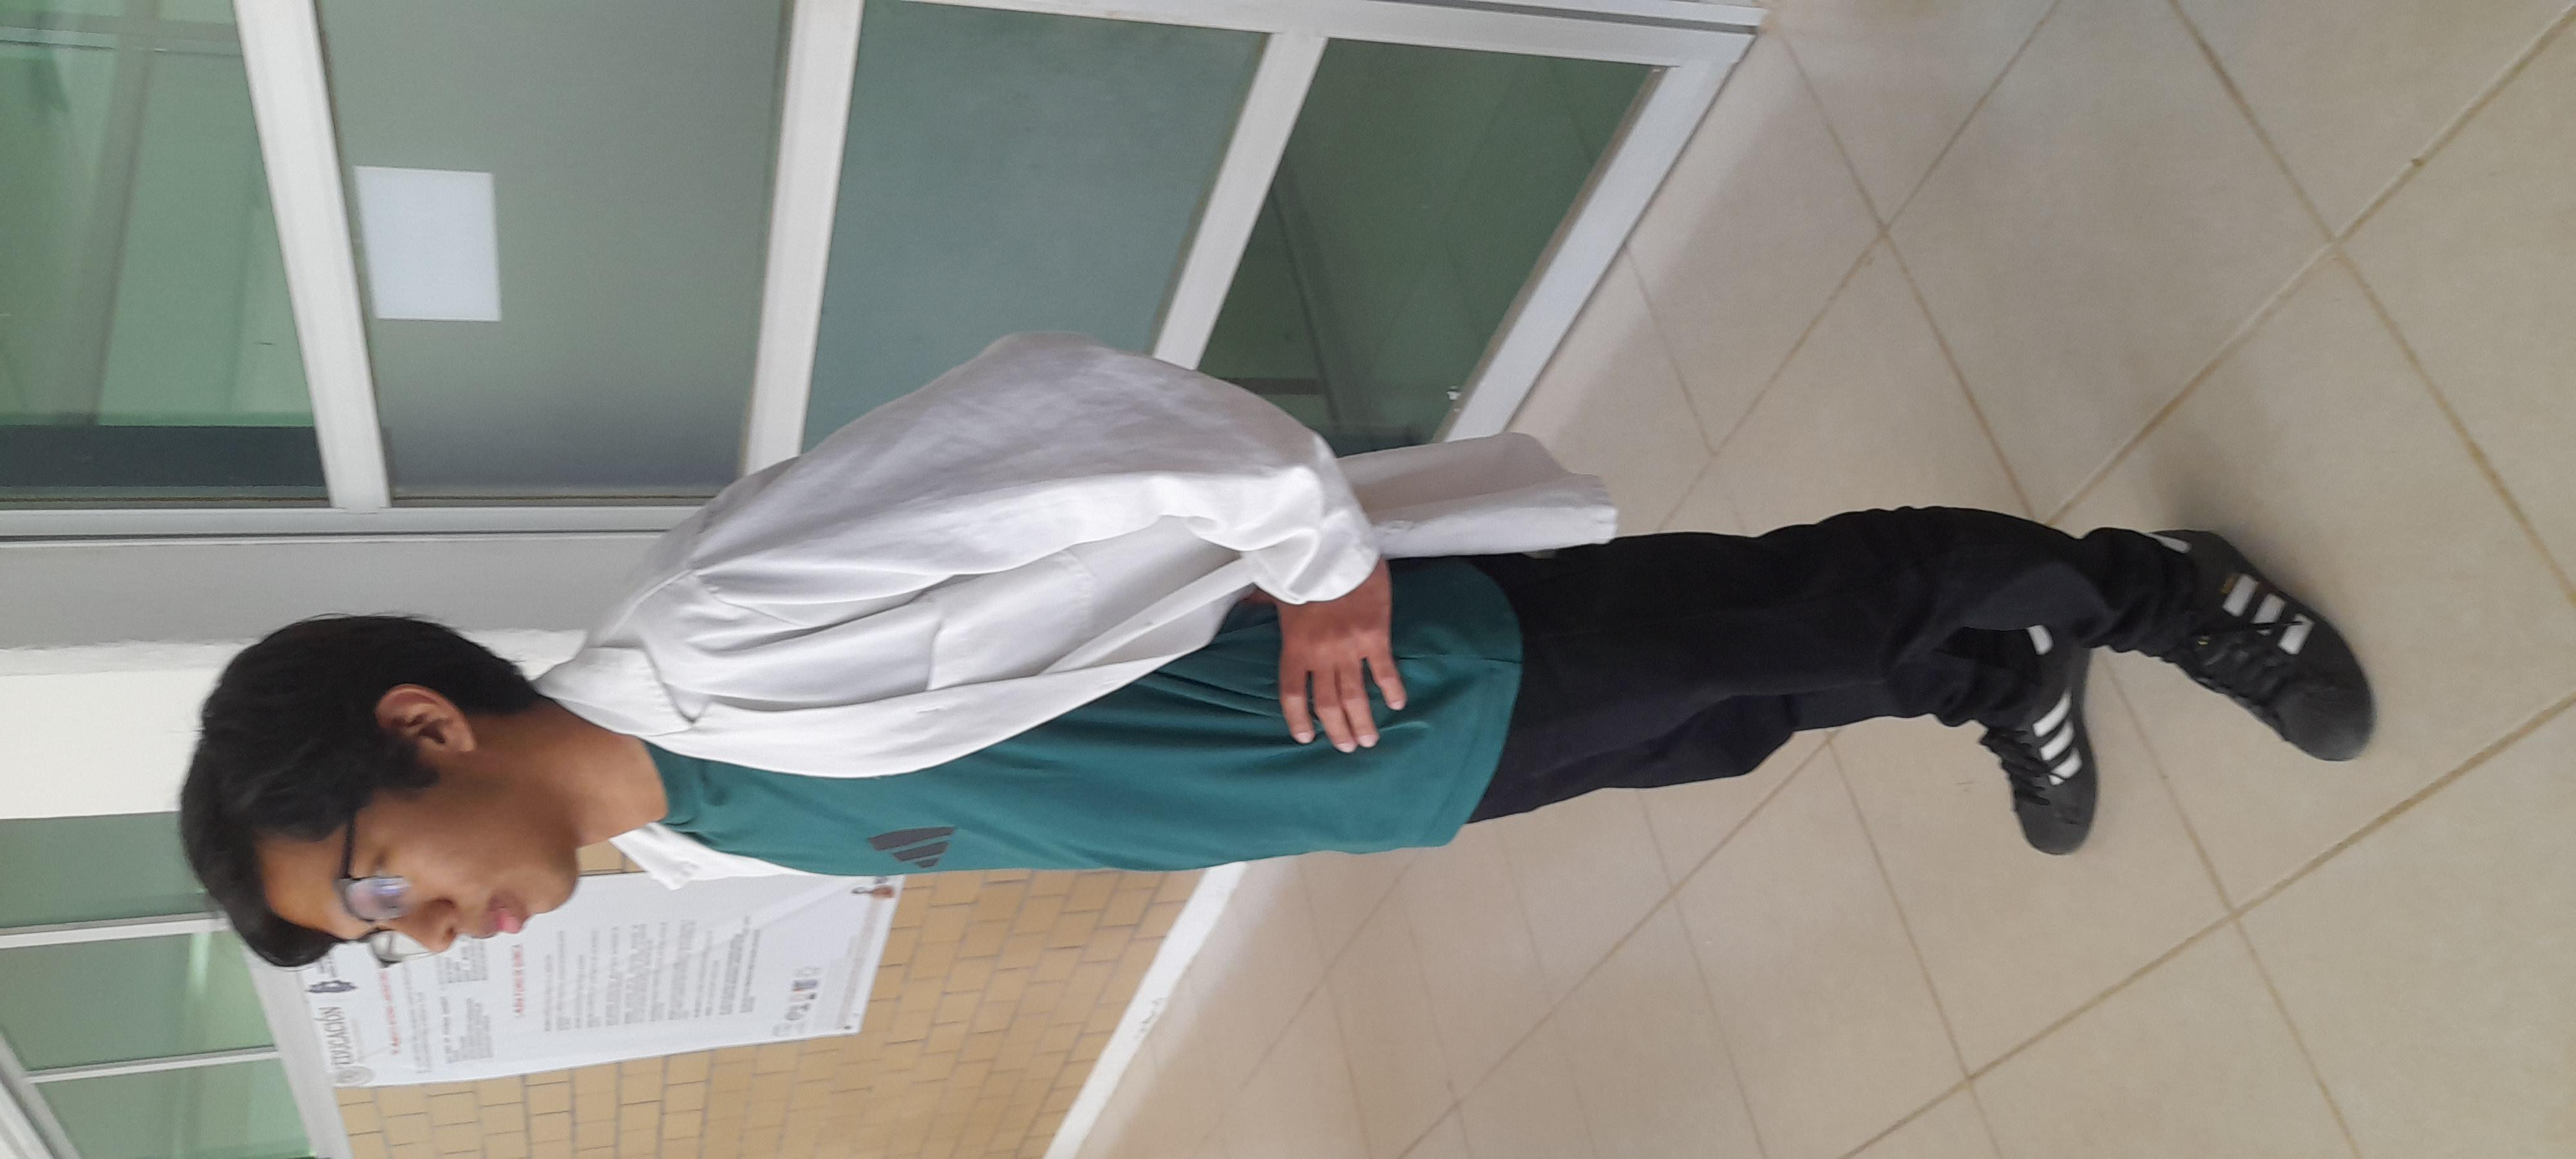Bata-Incorrecta: (273, 69, 2075, 1083)
